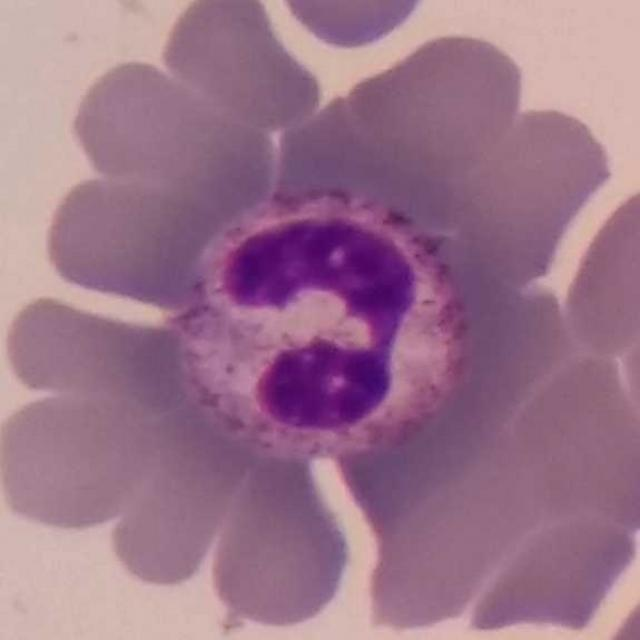Neutrophil: (169, 182, 473, 461)
RBC: (442, 102, 618, 288), (202, 448, 358, 636), (98, 418, 257, 596), (347, 27, 531, 174), (498, 347, 640, 536), (38, 166, 214, 312), (459, 503, 640, 640), (0, 386, 158, 537), (153, 0, 324, 130), (64, 53, 216, 185), (0, 289, 171, 403), (556, 173, 640, 360), (268, 0, 436, 53), (615, 268, 640, 464), (587, 560, 640, 640)
